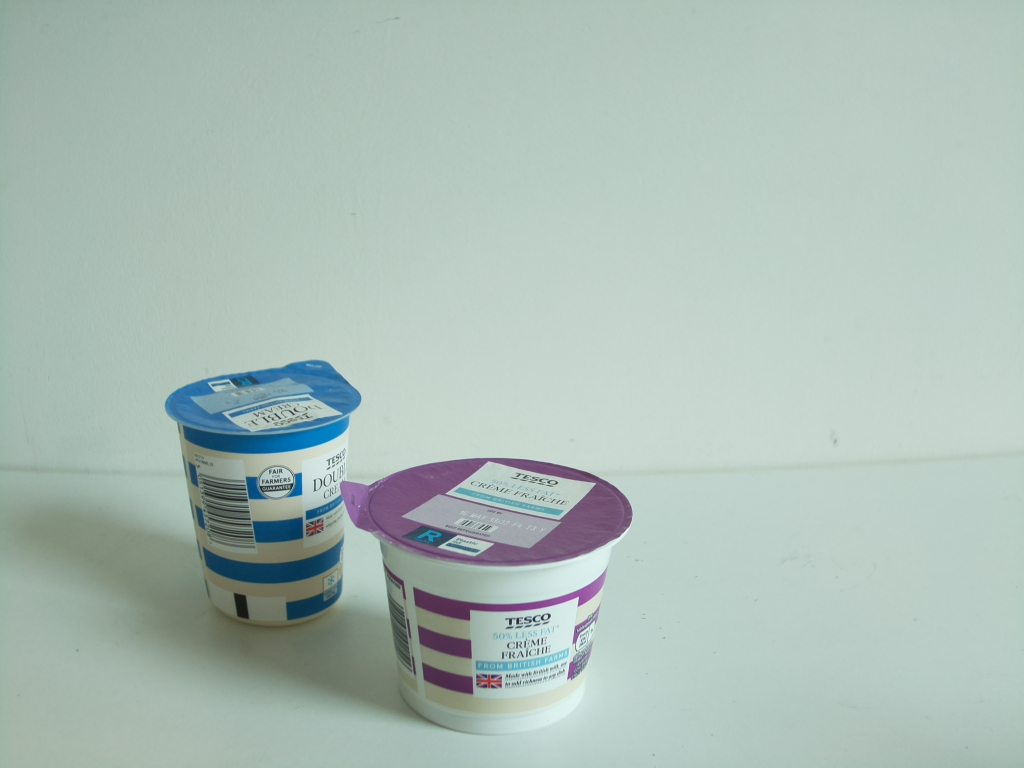cream: (345, 456, 638, 740), (163, 354, 359, 631)
